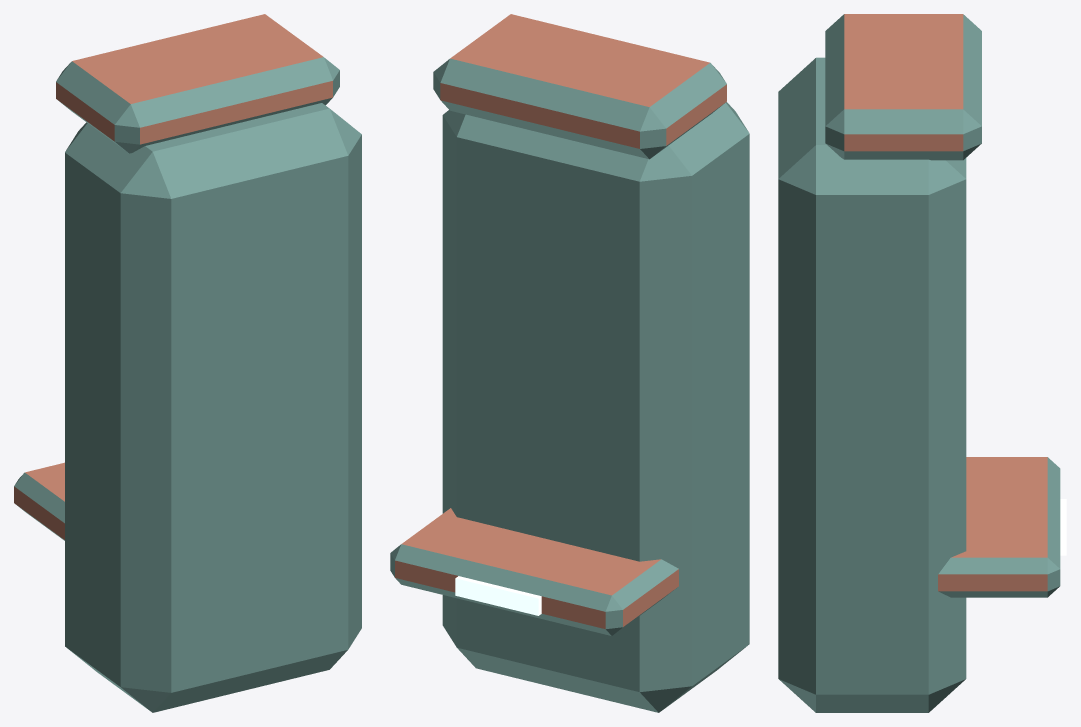
Rendered from TH_Bay.fbx.
The picture shows the model from 3 angles, left to right: view 1: azimuth 30°, elevation 25°; view 2: azimuth 150°, elevation 25°; view 3: azimuth 270°, elevation 25°; orthographic projection. The views are drawn at different scales.
Parts seen in each view (by area): view 1: TH_Bay; view 2: TH_Bay; view 3: TH_Bay.
Boxes of the visible parts, x1,y1,x2,y2 form: TH_Bay: [14, 14, 361, 712]; TH_Bay: [390, 14, 749, 712]; TH_Bay: [778, 14, 1066, 712].
Bounding box in the file's own units: 0.9 × 2.14 × 0.92.
